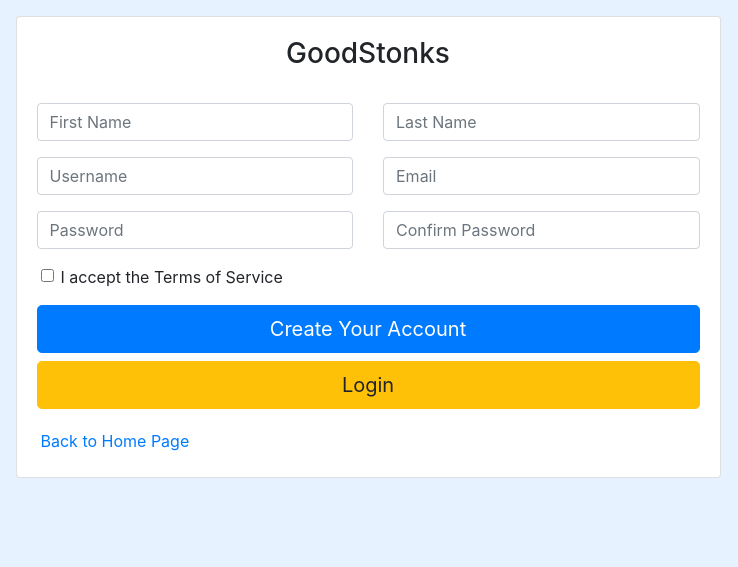
Test: Registration tests › Test empty first name
Click the button "Create Your Account" at (368, 329), box [36,305,700,353]
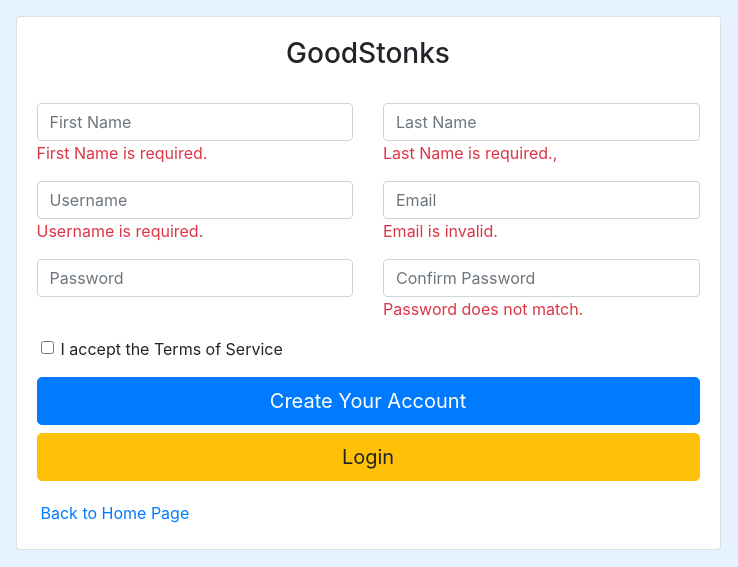
Check: the text "First Name is required." is shown, box [36,143,207,163]
